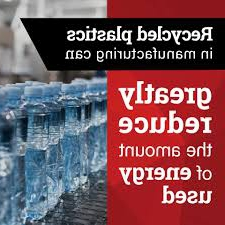plastic water bottle: (21, 84, 48, 223), (41, 85, 61, 212), (60, 82, 81, 196)
